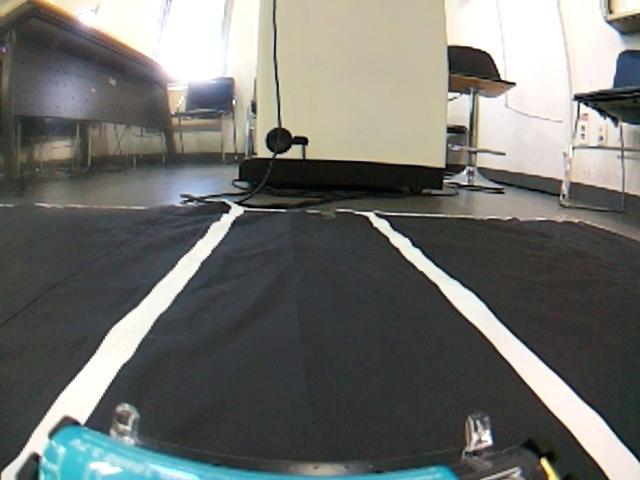straight: (19, 218, 640, 480)
